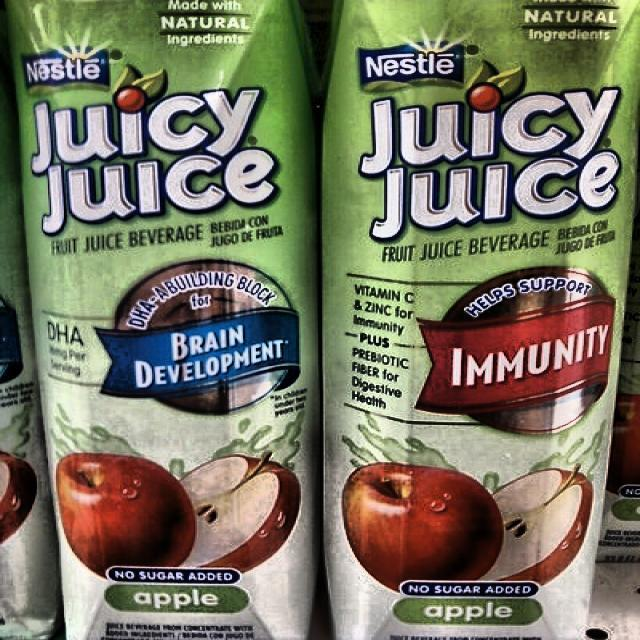cardboard: (318, 0, 638, 639)
